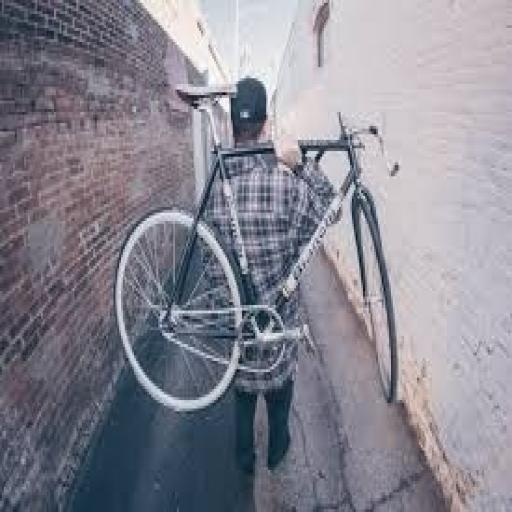cycling: (203, 73, 341, 478)
